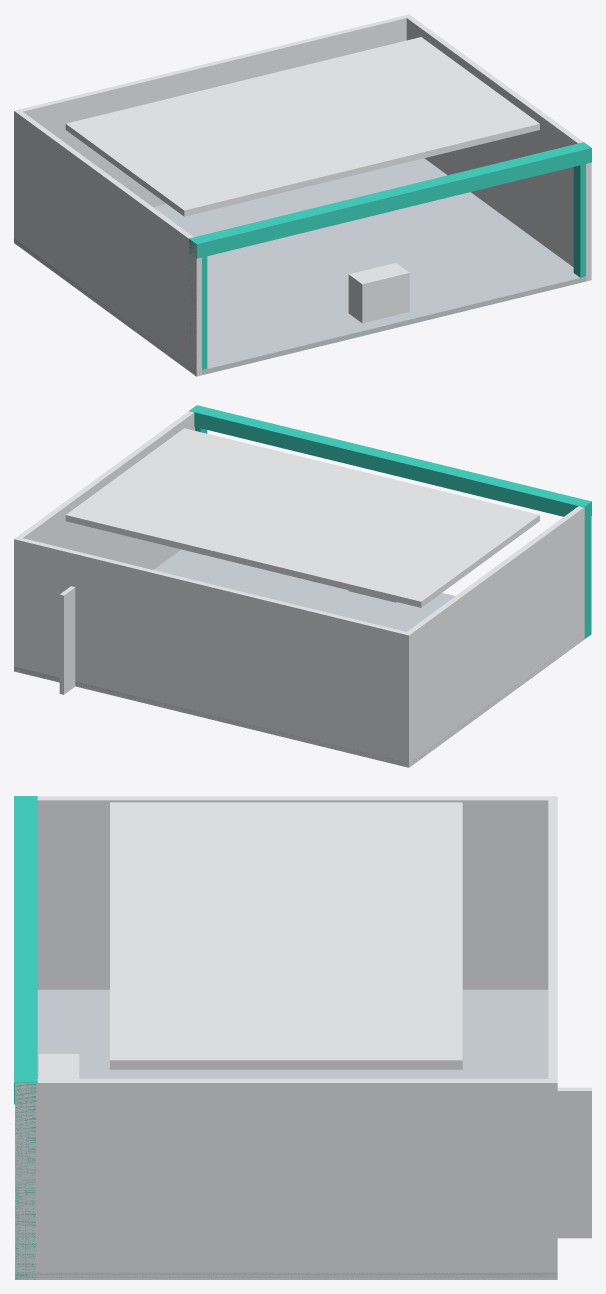
3 views of the same model, one above another, from view 1: azimuth 30°, elevation 25°; view 2: azimuth 150°, elevation 25°; view 3: azimuth 270°, elevation 25° (orthographic). The views are drawn at different scales.
Parts seen in each view (by area): view 1: Exhibition Booth Concept; view 2: Exhibition Booth Concept; view 3: Exhibition Booth Concept.
Part boxes in pixels (x1,y1,x2,y2): Exhibition Booth Concept: [14, 14, 591, 376]; Exhibition Booth Concept: [14, 405, 591, 767]; Exhibition Booth Concept: [14, 796, 591, 1279].
Size of the model in its own units: 10 by 3.34 by 8.52.
